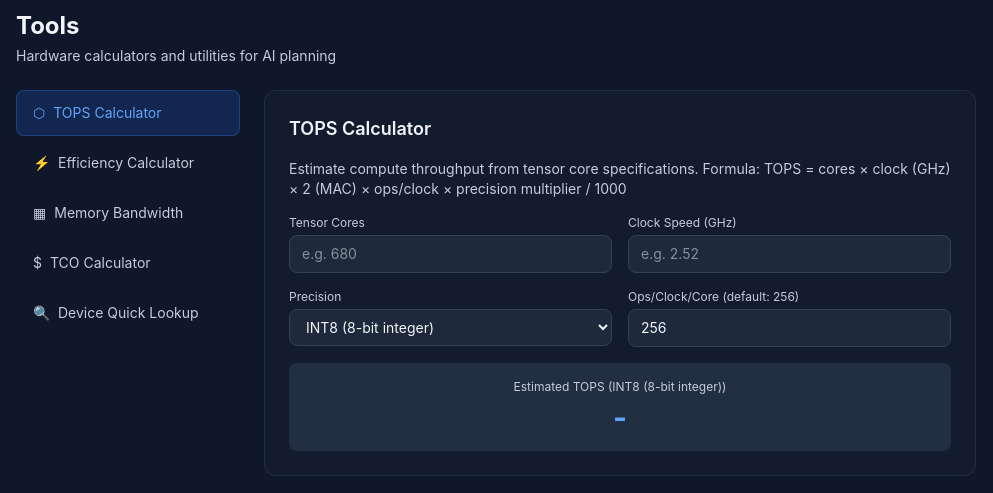
Test: ToolsPage › switches to TCO Calculator on tab click
Click the tab "$TCO Calculator" at (128, 263), box [16, 240, 240, 286]
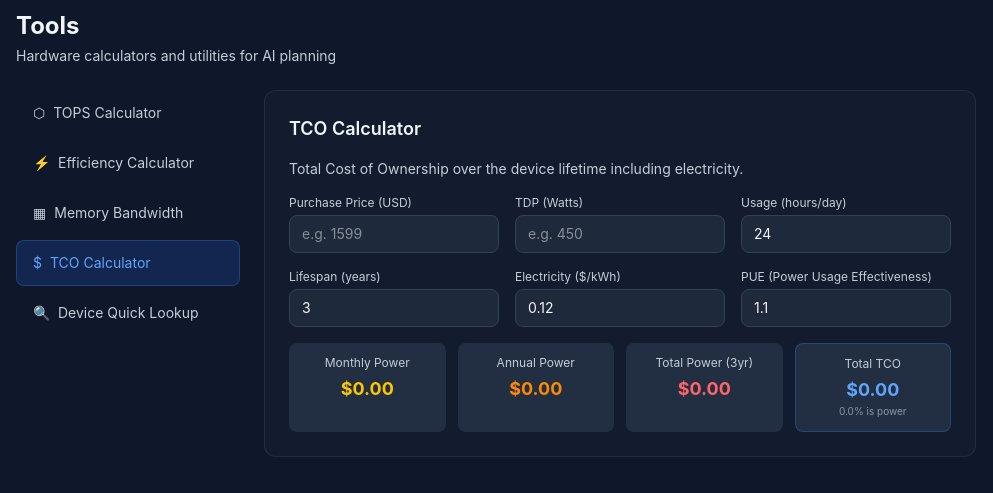
expect the number field labelled "Purchase Price (USD)" is shown: met, box [289, 215, 499, 253]
